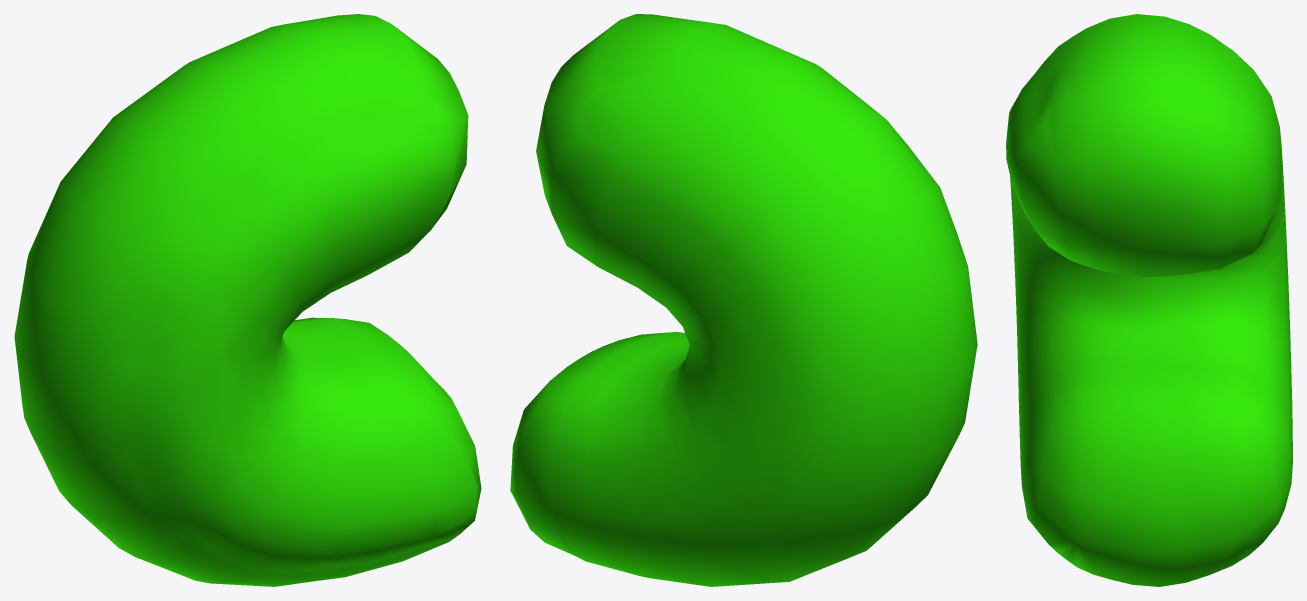
The picture shows the model from 3 angles, left to right: view 1: azimuth 30°, elevation 25°; view 2: azimuth 150°, elevation 25°; view 3: azimuth 270°, elevation 25°; orthographic projection. The views are drawn at different scales.
Parts seen in each view (by area): view 1: Object_8; view 2: Object_8; view 3: Object_8.
Part boxes in pixels (x1,y1,x2,y2): Object_8: (14, 14, 481, 586); Object_8: (510, 14, 977, 586); Object_8: (1006, 14, 1292, 586).
Size of the model in its own units: 0.752 by 0.9249 by 0.4699.
